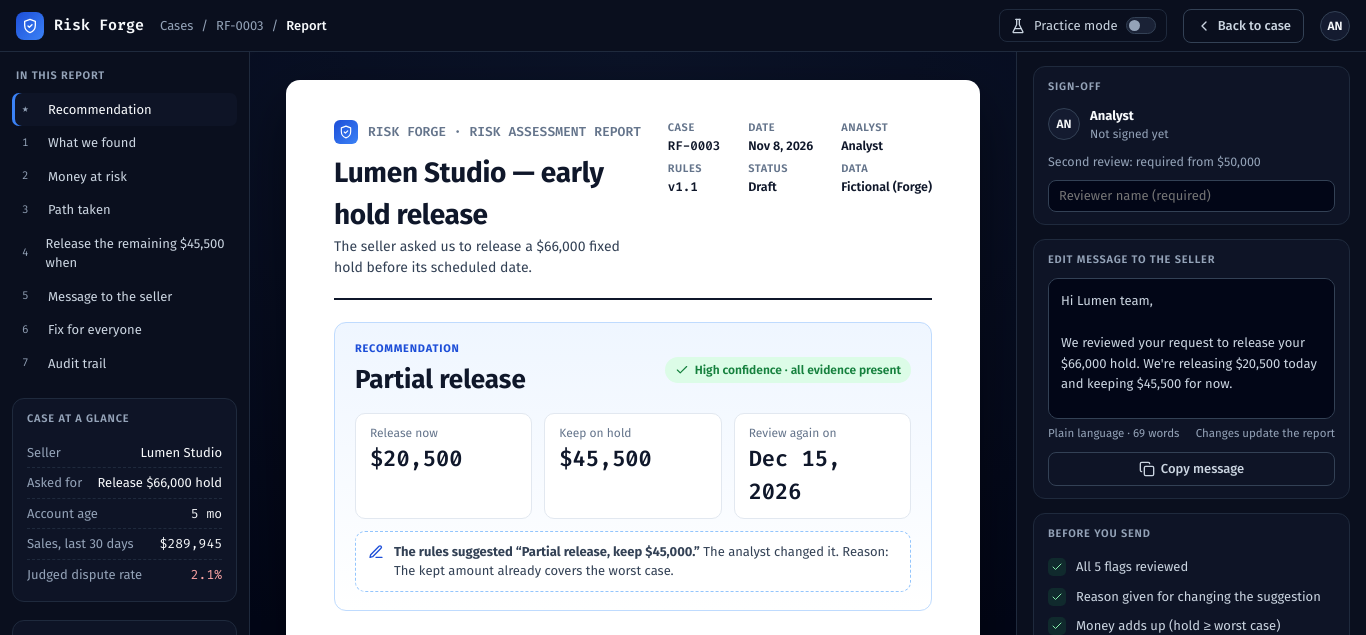
report page › saves edits to the seller message
The image size is (1366, 635).
Replace the text in the text box named "Message to the seller" with "Short note": [1192, 348] box x1=1048 y1=278 x2=1335 y2=419
(page scrolled)
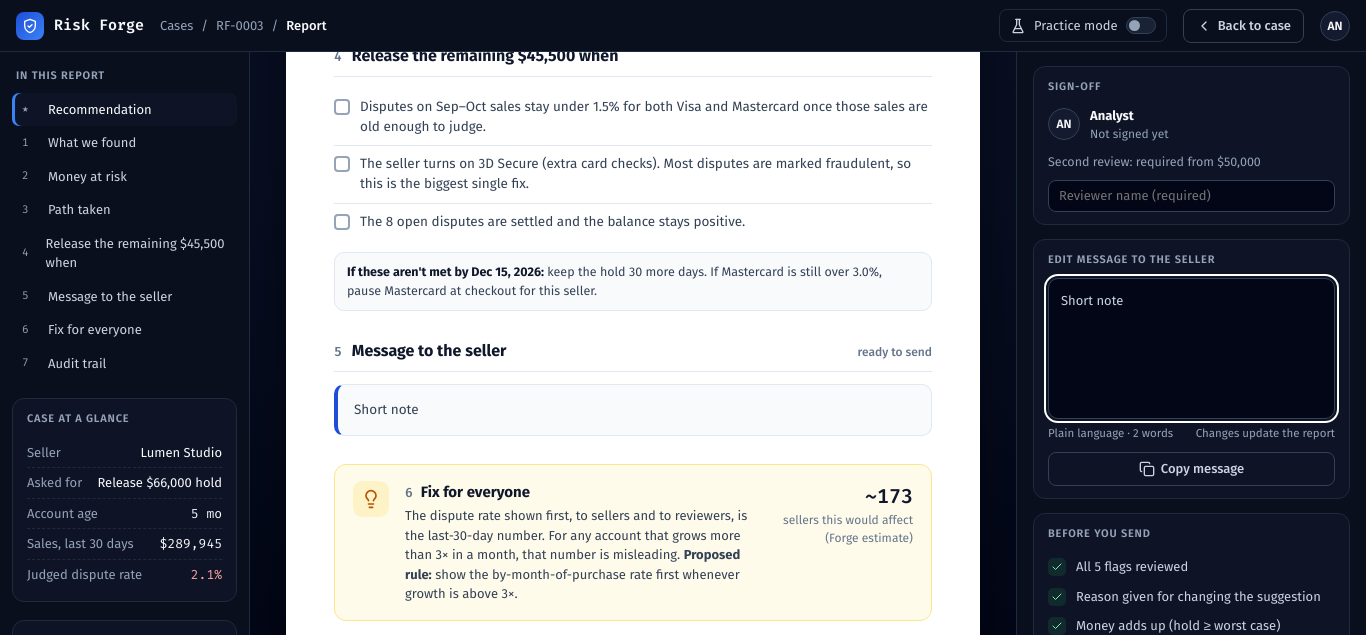
expect the text "Plain language · 2 words" is shown: met, box x1=1048 y1=424 x2=1173 y2=442
expect the text "Short note" is shown: met, box x1=354 y1=401 x2=419 y2=418
